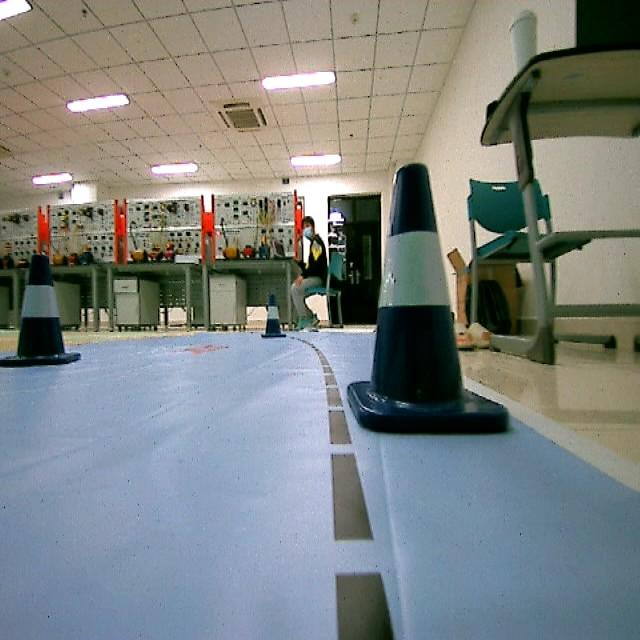obstacle: (354, 160, 516, 437), (0, 251, 90, 368), (254, 293, 286, 339)
